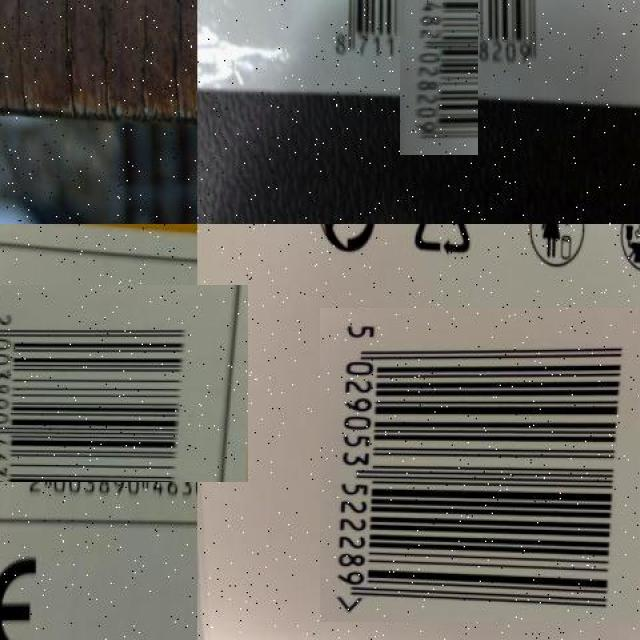Barcode: (322, 305, 640, 625), (0, 259, 222, 507), (360, 0, 516, 117)
